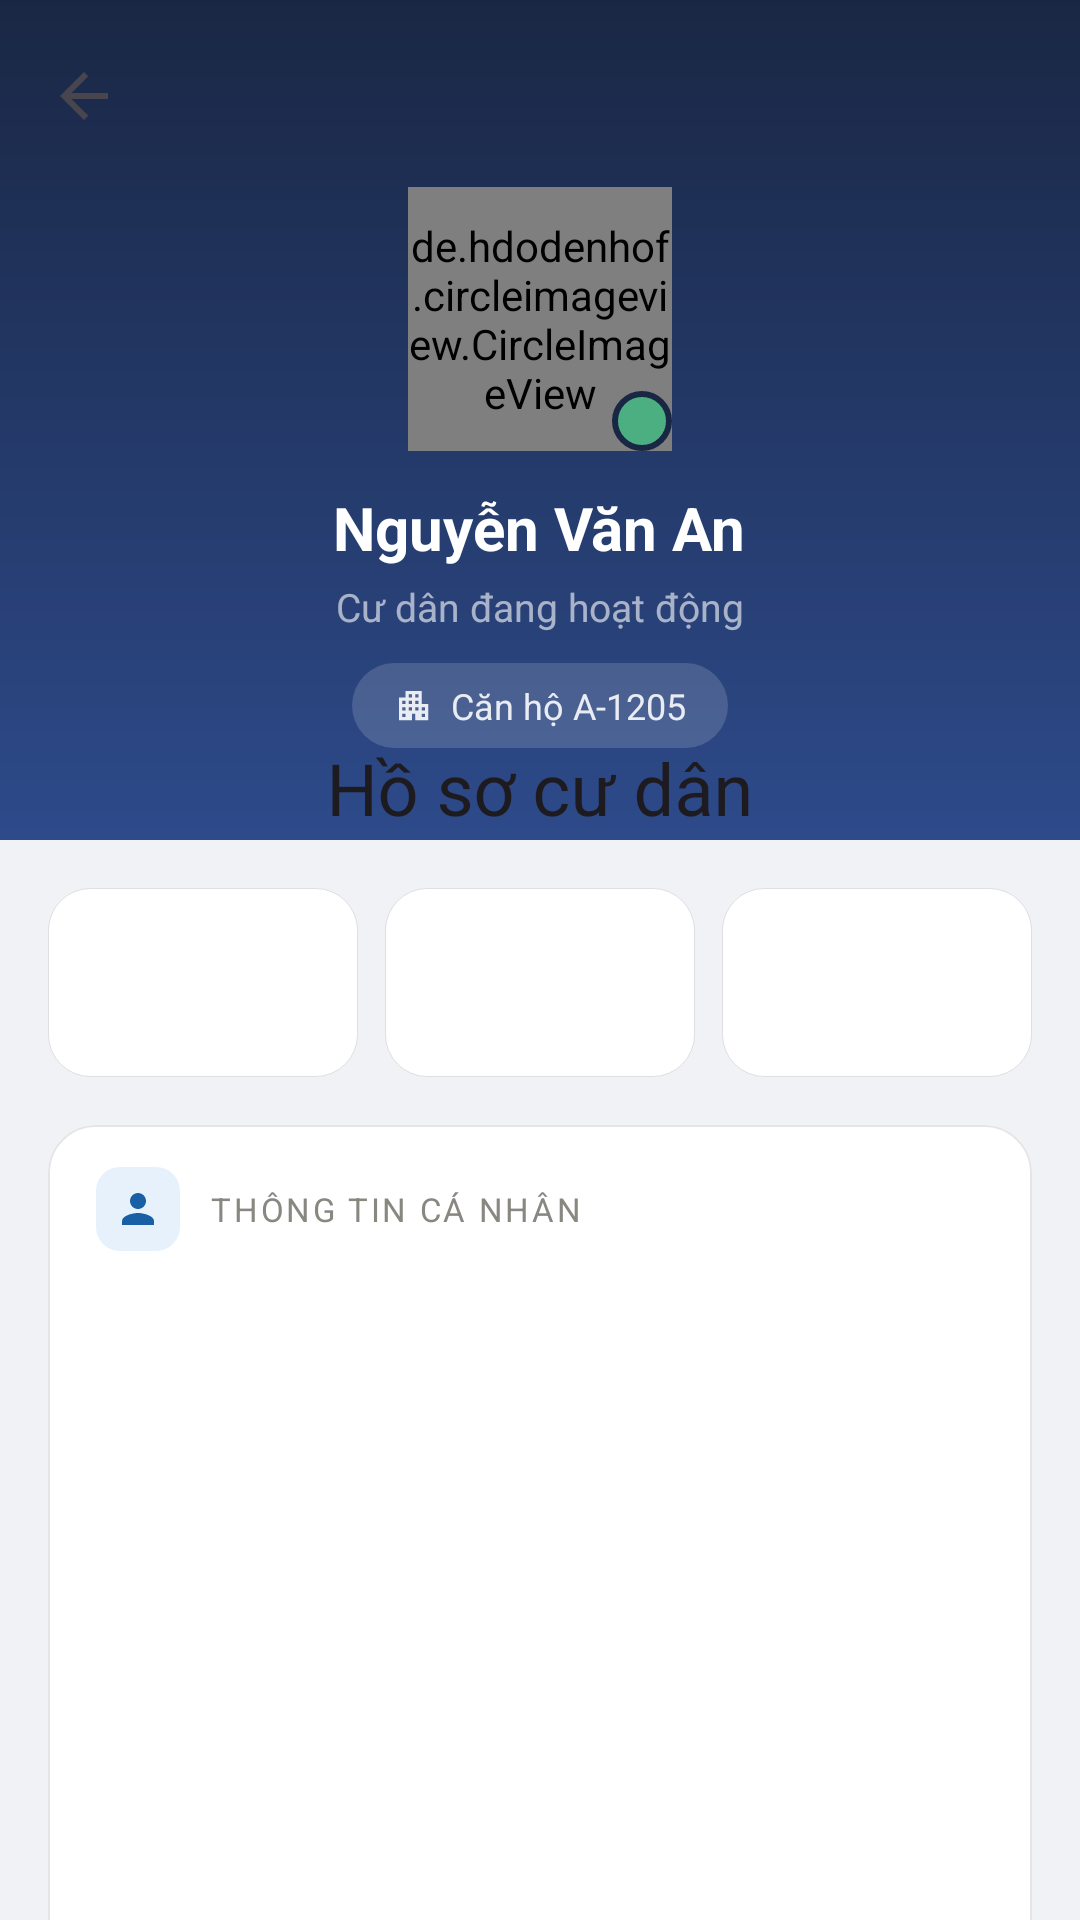

Where icons sit on this 1080×1920 app screen, as region(x1, y1, x2, y2):
person: region(122, 1193, 154, 1225)
